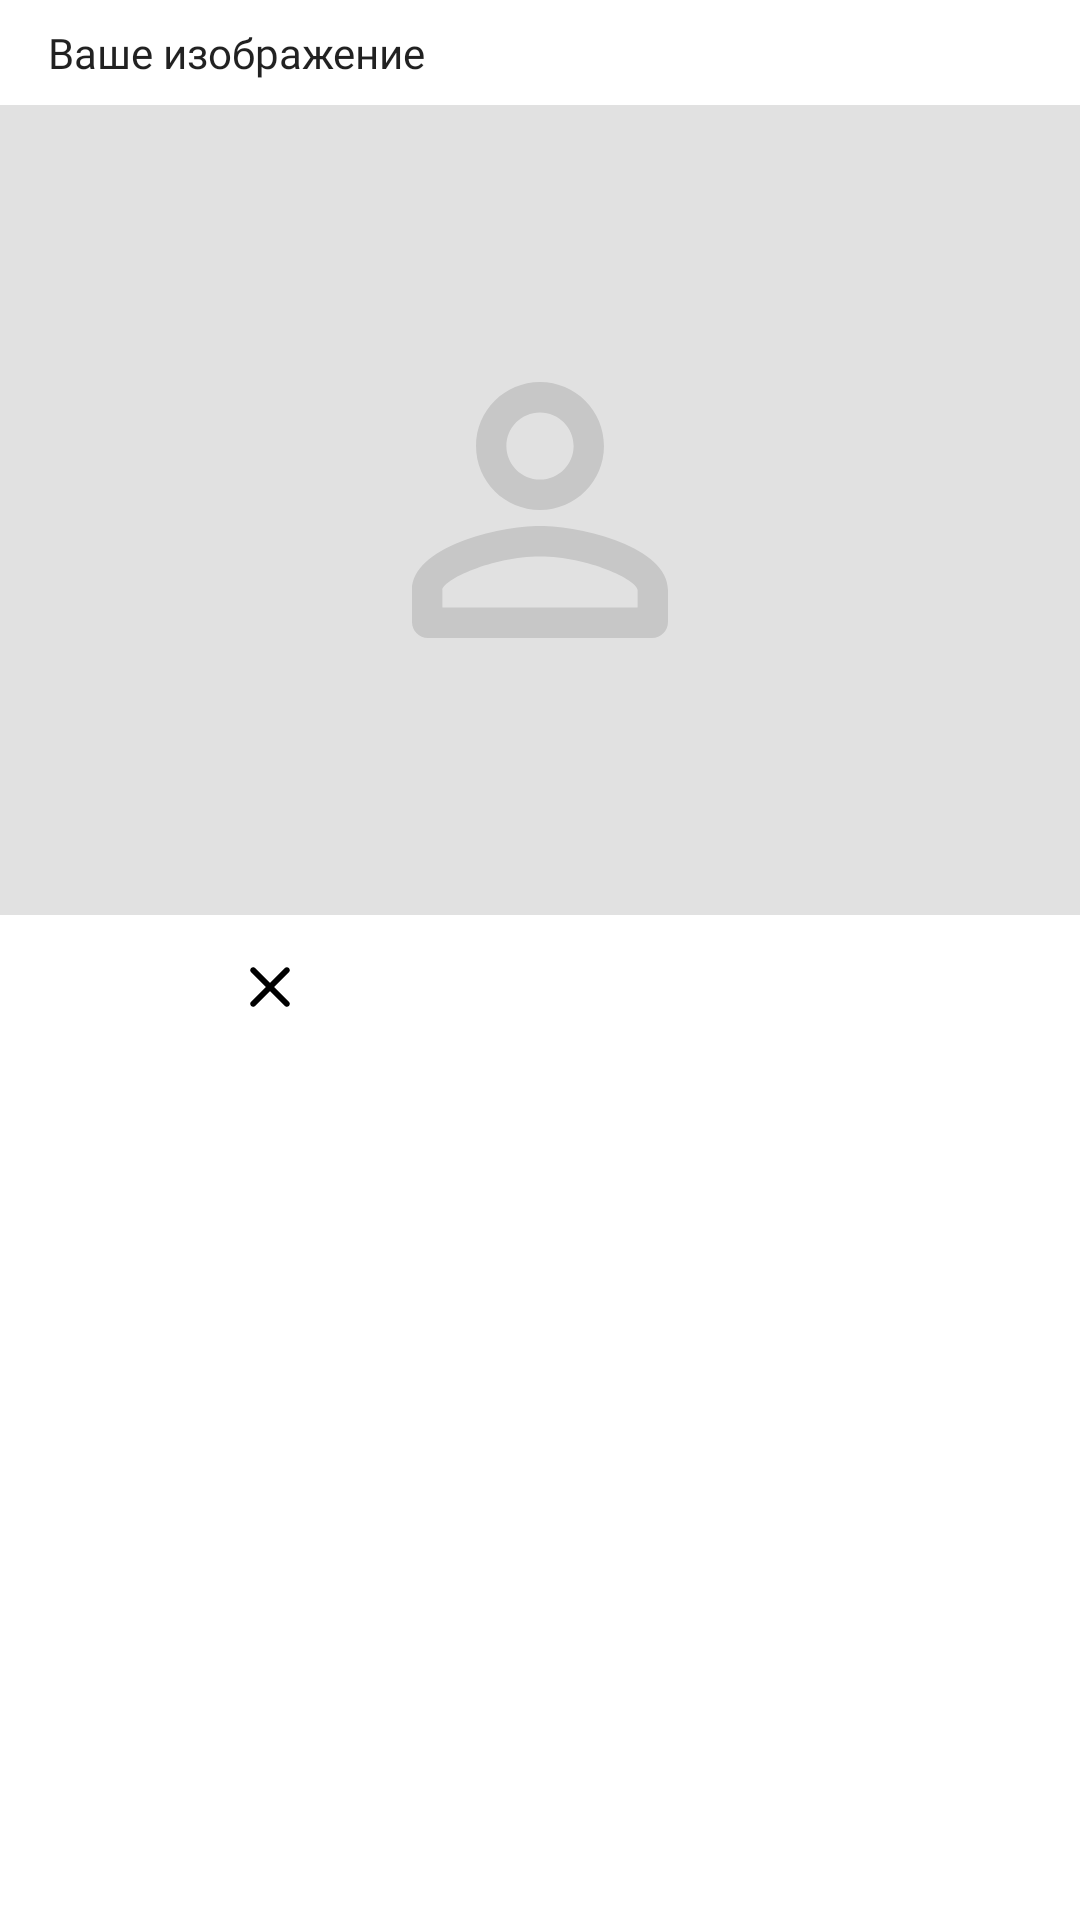

Icon bounding boxes for this 1080x1920 phone screenshot, format (x1, y1, x2, y2):
cross: (250, 967, 290, 1007)
